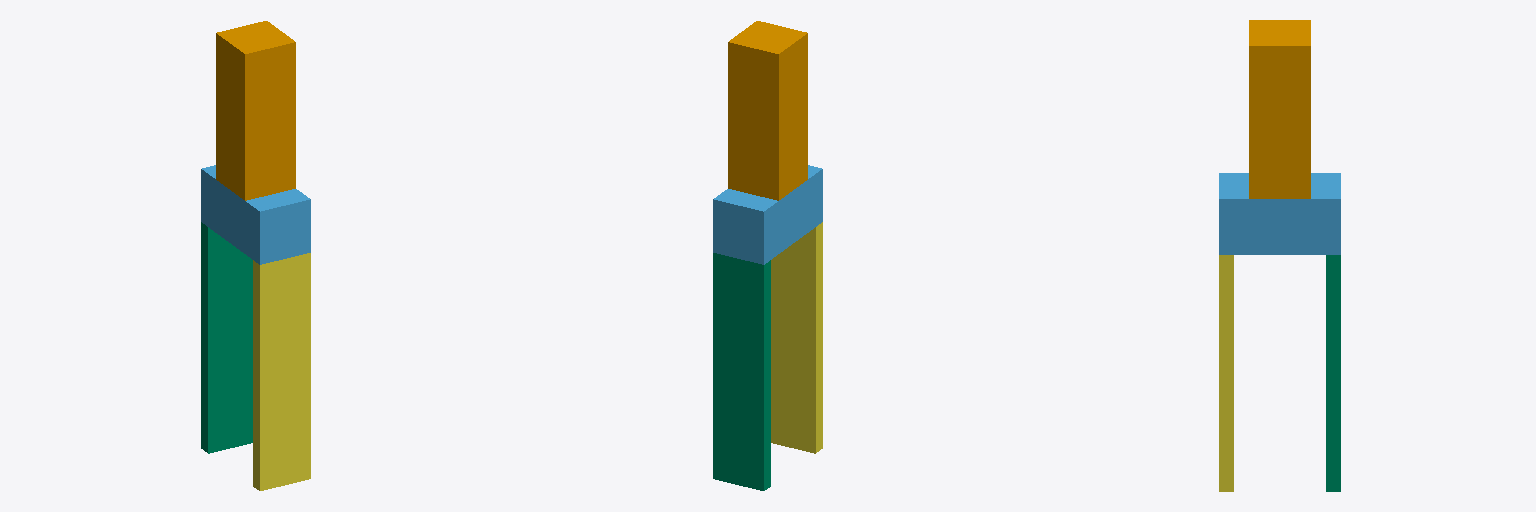
robot.urdf — chessGripper:
<?xml version="1.0" ?>
<robot name="chessGripper">
    
  <joint name="hand_joint" type="fixed">
    <parent link="wrist_link"/>
    <child link="gripper_bar"/>
    <origin rpy="0  0  0" xyz="0.07488 -0.66447 -0.0375"/>
    <axis xyz="0  0  0"/>
    <limit effort="0" lower="0" upper="0" velocity="0"/>
  </joint>
  
  <joint name="right_joint" type="revolute">
    <parent link="gripper_bar"/>
    <child link="right_grip"/>
    <origin rpy="0  0  0" xyz="0     -0.0175 -0.01"/>
    <axis xyz="1  0  0"/>
    <limit effort="-1.0" lower="-1.79769e+308" upper="1.79769e+308" velocity="-1.0"/>
  </joint>
  
  <joint name="left_joint" type="revolute">
    <parent link="gripper_bar"/>
    <child link="left_grip"/>
    <origin rpy="0  0  0" xyz="0      0.0175 -0.01"/>
    <axis xyz="1  0  0"/>
    <limit effort="-1.0" lower="-1.79769e+308" upper="1.79769e+308" velocity="-1.0"/>
  </joint>
  
  <link name="wrist_link">
    <inertial>
      <mass value="1"/>
      <origin rpy="0  0  0" xyz="0  0  0"/>
      <inertia ixx="0.166667" ixy="0" ixz="0" iyy="0.166667" iyz="0" izz="0.166667"/>
    </inertial>
    <collision name="chessGripper__collision">
      <origin rpy="0  0  0" xyz="0.07488 -0.66447  0"/>
      <geometry>
        <box size="0.02 0.02 0.055"/>
      </geometry>
    </collision>
    <visual name="chessGripper__visual">
      <origin rpy="0  0  0" xyz="0.07488 -0.66447  0"/>
      <geometry>
        <box size="0.02 0.02 0.055"/>
      </geometry>
    </visual>
  </link>
  
  <link name="gripper_bar">
    <inertial>
      <mass value="1"/>
      <origin rpy="0  0  0" xyz="0  0  0"/>
      <inertia ixx="0.166667" ixy="0" ixz="0" iyy="0.166667" iyz="0" izz="0.166667"/>
    </inertial>
    <collision name="chessGripper__collision">
      <origin rpy="0  0  0" xyz="0  0  0"/>
      <geometry>
        <box size="0.02 0.04 0.02"/>
      </geometry>
    </collision>
    <visual name="chessGripper__visual">
      <origin rpy="0  0  0" xyz="0  0  0"/>
      <geometry>
        <box size="0.02 0.04 0.02"/>
      </geometry>
    </visual>
  </link>
  
  <link name="left_grip">
    <inertial>
      <mass value="1"/>
      <origin rpy="0  0  0" xyz="0  0  0"/>
      <inertia ixx="0.166667" ixy="0" ixz="0" iyy="0.166667" iyz="0" izz="0.166667"/>
    </inertial>
    <collision name="chessGripper__collision">
      <origin rpy="0  0  0" xyz="0      0     -0.0425"/>
      <geometry>
        <box size="0.02 0.005 0.085"/>
      </geometry>
    </collision>
    <visual name="chessGripper__visual">
      <origin rpy="0  0  0" xyz="0      0     -0.0425"/>
      <geometry>
        <box size="0.02 0.005 0.085"/>
      </geometry>
    </visual>
  </link>
  
  <link name="right_grip">
    <inertial>
      <mass value="1"/>
      <origin rpy="0  0  0" xyz="0  0  0"/>
      <inertia ixx="0.166667" ixy="0" ixz="0" iyy="0.166667" iyz="0" izz="0.166667"/>
    </inertial>
    <collision name="chessGripper__collision">
      <origin rpy="0  0  0" xyz="0      0     -0.0425"/>
      <geometry>
        <box size="0.02 0.005 0.085"/>
      </geometry>
    </collision>
    <visual name="chessGripper__visual">
      <origin rpy="0  0  0" xyz="0      0     -0.0425"/>
      <geometry>
        <box size="0.02 0.005 0.085"/>
      </geometry>
    </visual>
  </link>
  
</robot>

--- Render facts (derived) ---
3 views of the same robot in one strip: view 1: azimuth 30°, elevation 25°; view 2: azimuth 150°, elevation 25°; view 3: azimuth 270°, elevation 25° (orthographic).
Robot: chessGripper — 4 links, 3 joints (2 revolute, 1 fixed); root link wrist_link; default pose: every joint at zero.
Visible links, largest first — view 1: wrist_link, right_grip, left_grip, gripper_bar; view 2: wrist_link, left_grip, right_grip, gripper_bar; view 3: wrist_link, gripper_bar, left_grip, right_grip.
Boxes of the visible links, box(x1,y1,x2,y2) form: wrist_link: box(216, 21, 295, 200); right_grip: box(253, 253, 310, 490); left_grip: box(201, 222, 252, 453); gripper_bar: box(201, 165, 310, 264); wrist_link: box(728, 21, 807, 200); left_grip: box(713, 253, 770, 490); right_grip: box(771, 222, 822, 453); gripper_bar: box(713, 165, 822, 264); wrist_link: box(1249, 20, 1310, 198); gripper_bar: box(1219, 173, 1340, 254); left_grip: box(1326, 255, 1340, 491); right_grip: box(1219, 255, 1233, 491).
Bounding box of the posed robot: 0.02 × 0.04 × 0.16 m (x, y, z).
Geometry: primitives only (box / cylinder / sphere), no mesh files.